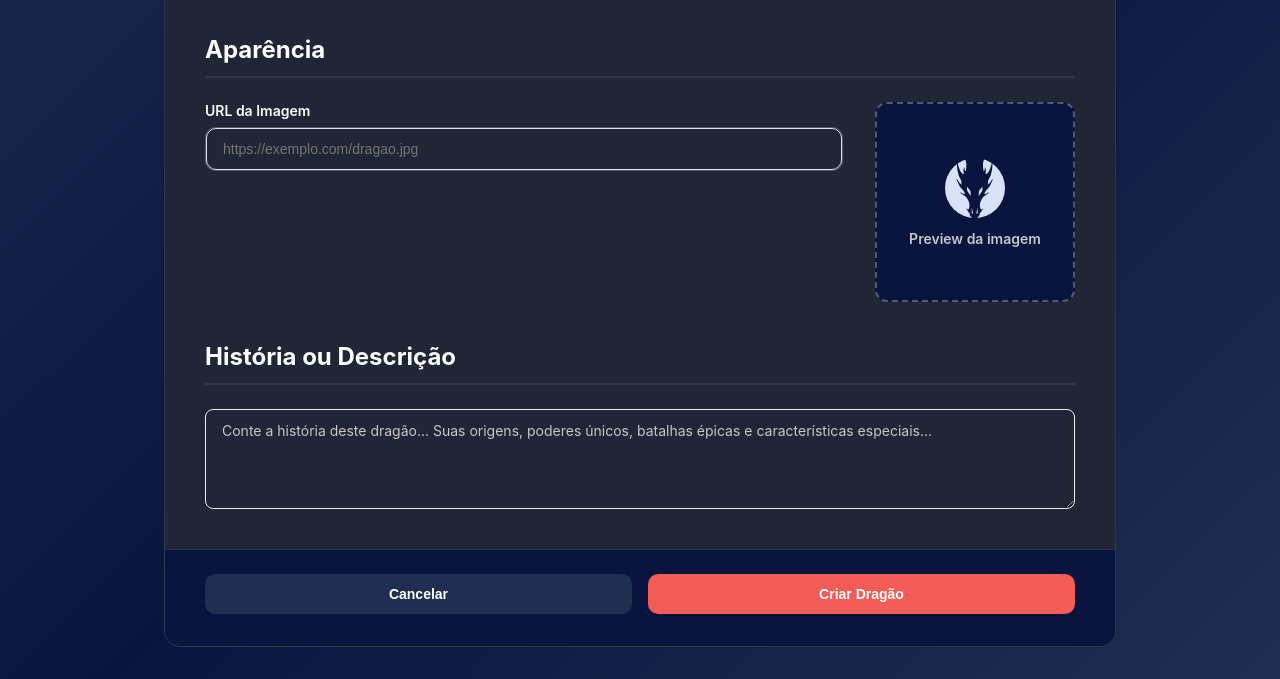
Test: CreateDragon Screen › shows validation errors if required fields are empty
The width and height of the screenshot is (1280, 679).
(page scrolled)
Click the button "Criar Dragão" at (862, 594), box [648,574,1075,614]
(page scrolled)
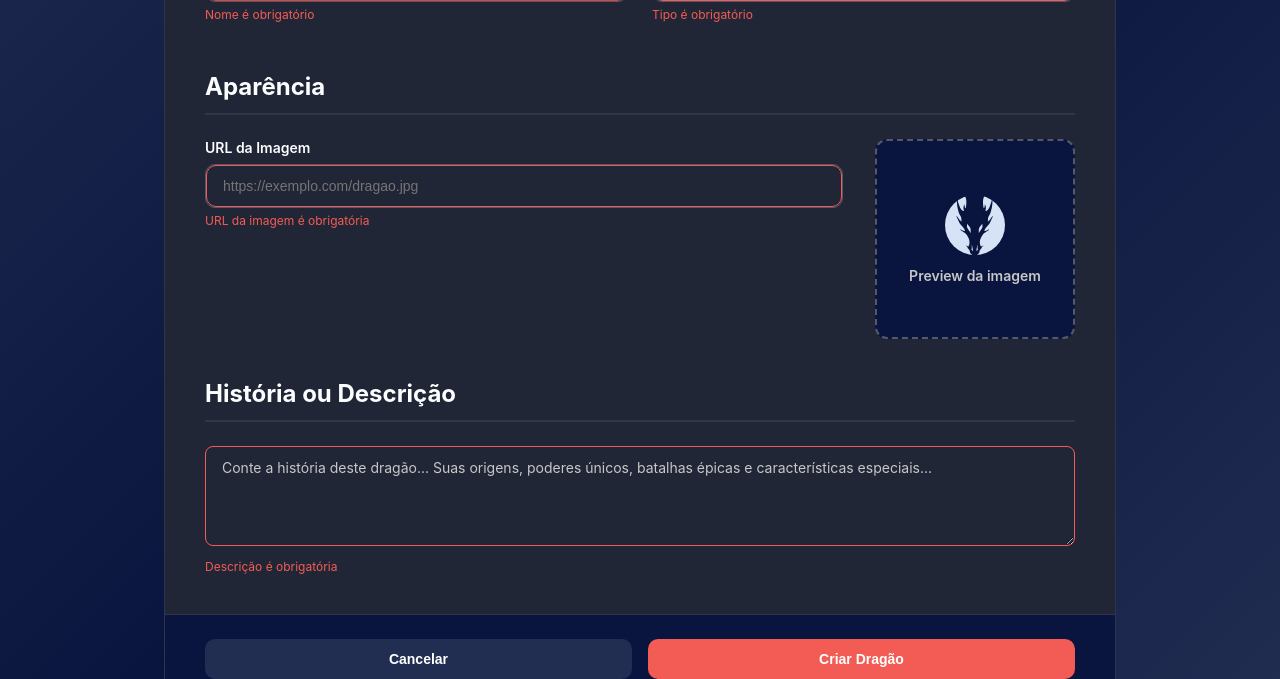
Result: the text "Nome é obrigatório" is shown at [205,7,314,22]
